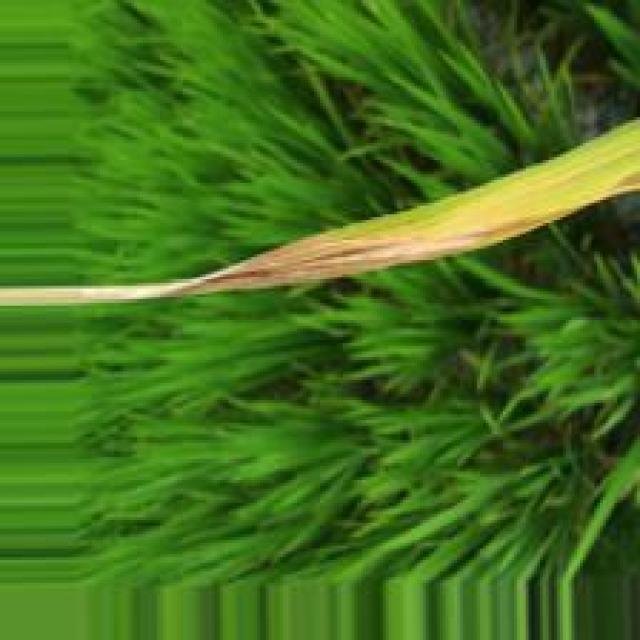Leaf_Scald: (151, 211, 561, 297)
